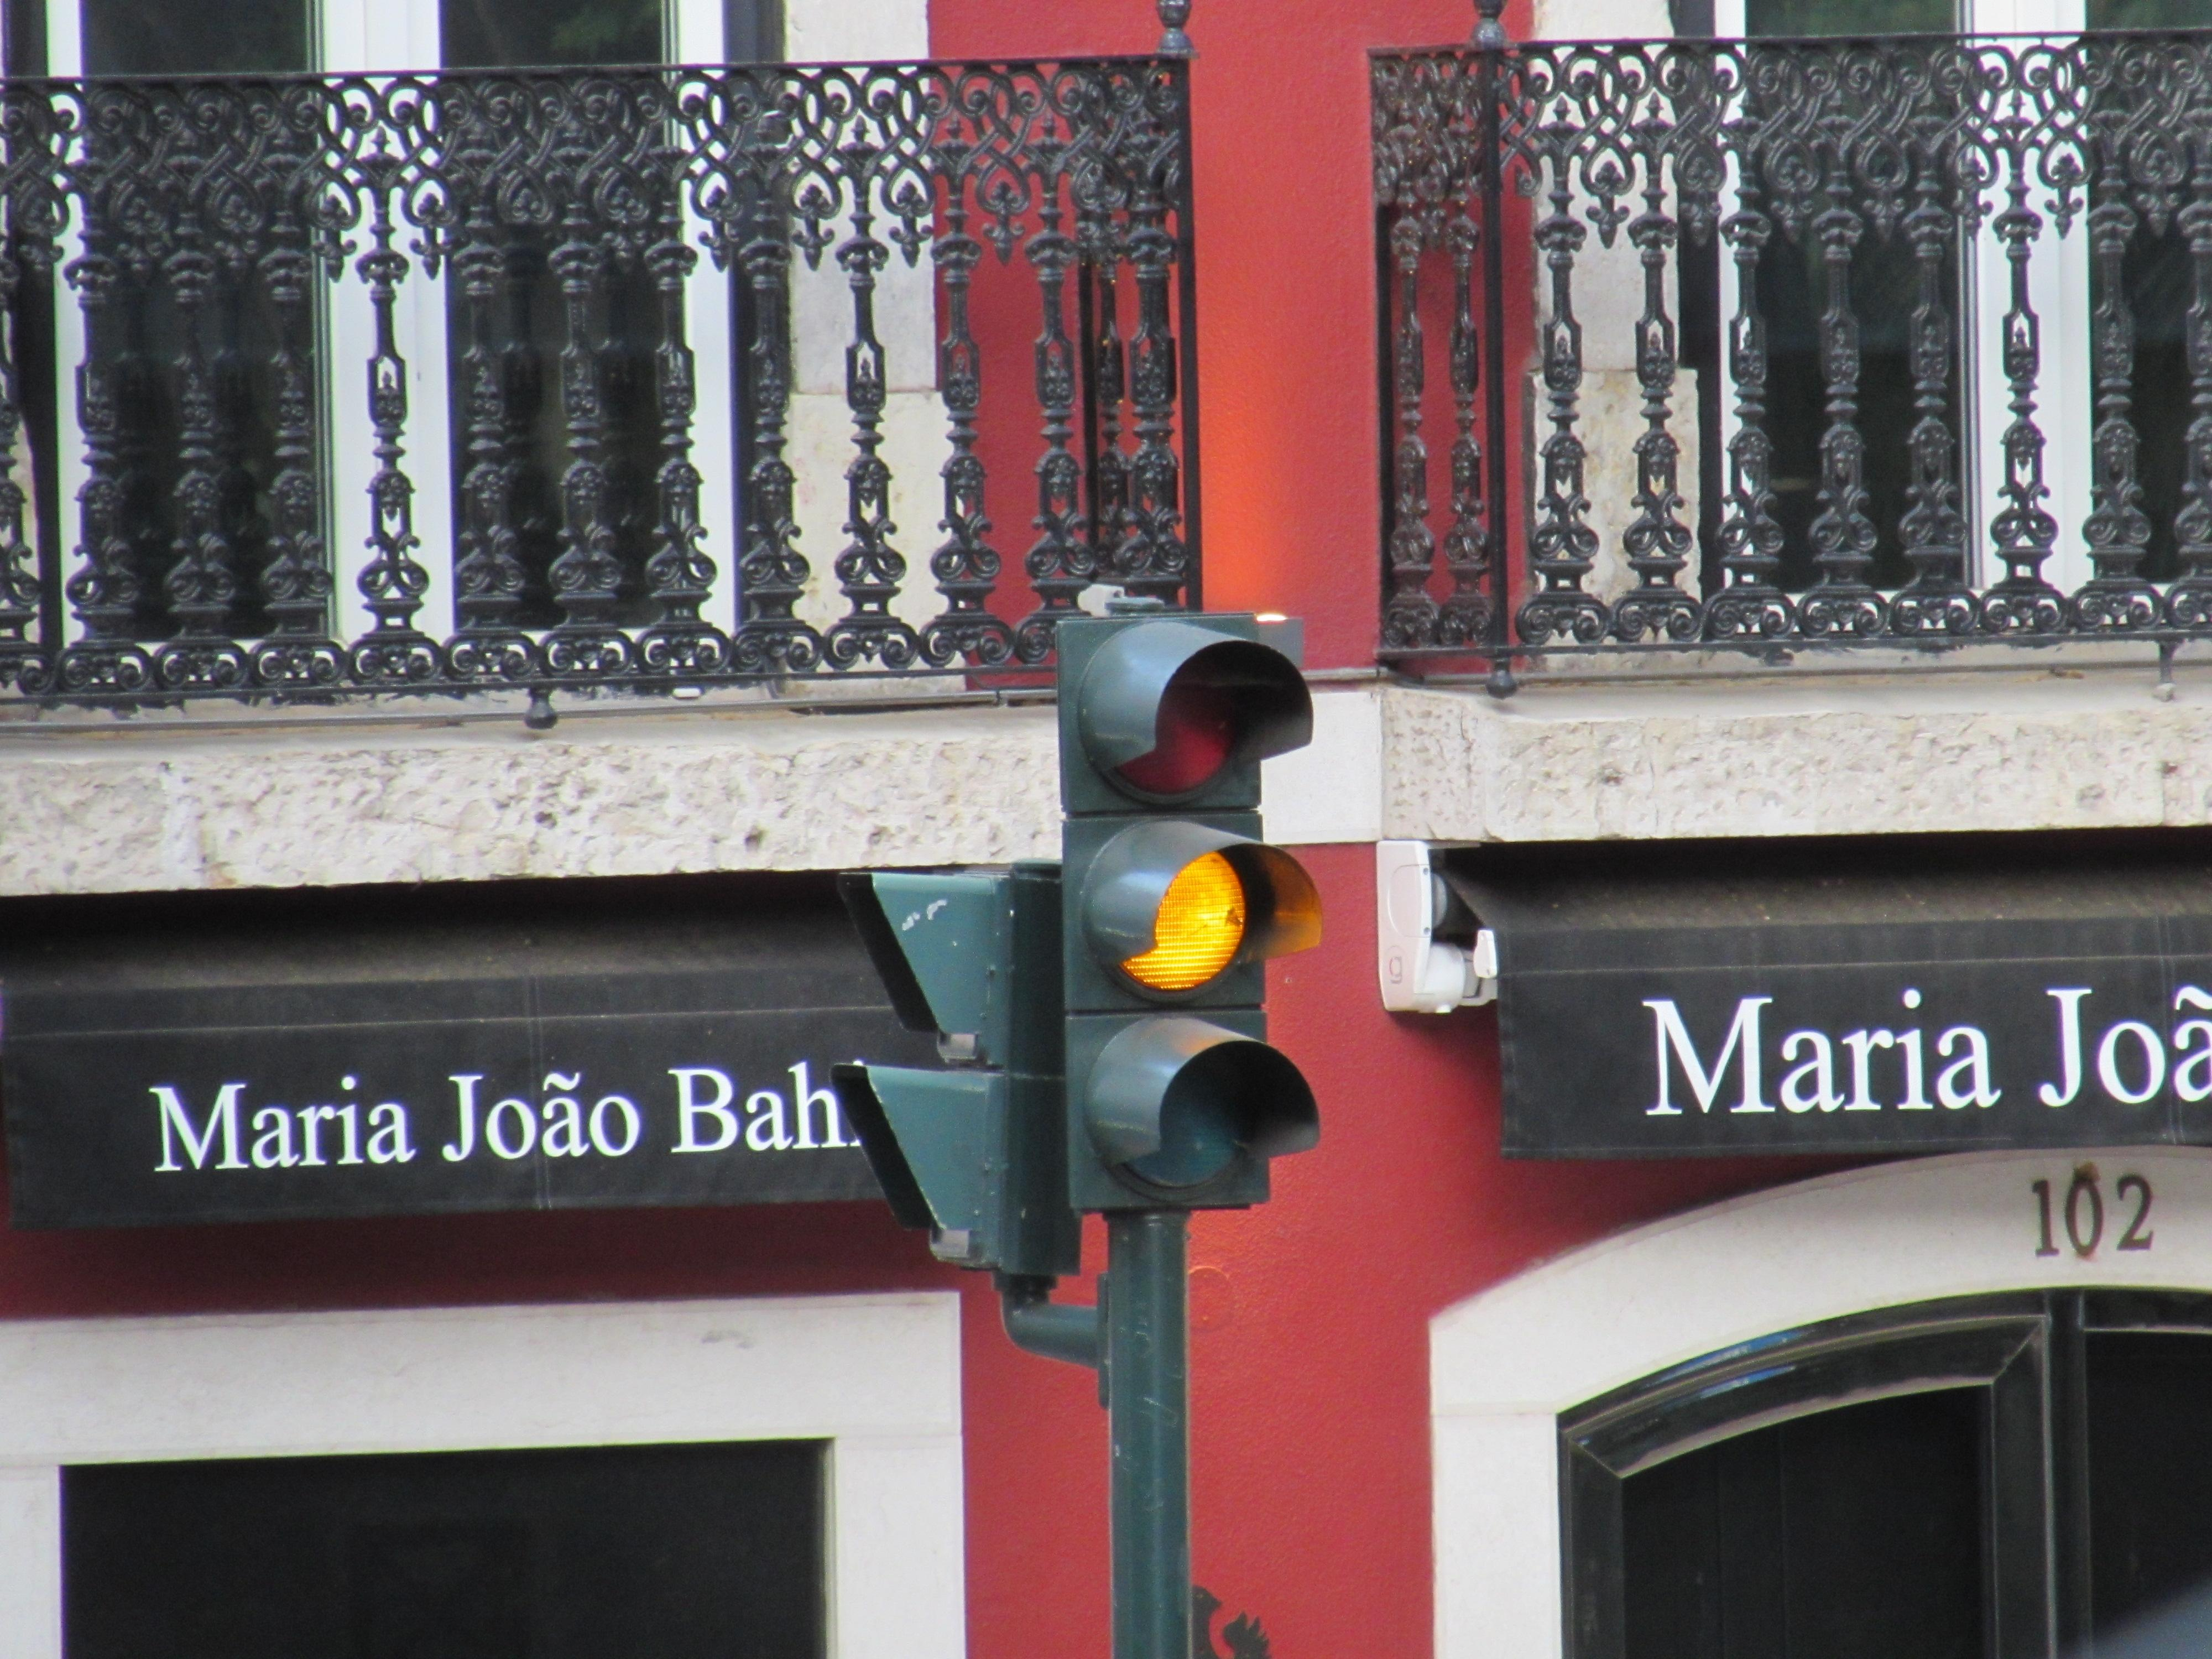yellow_light: (1059, 613, 1322, 1211)
